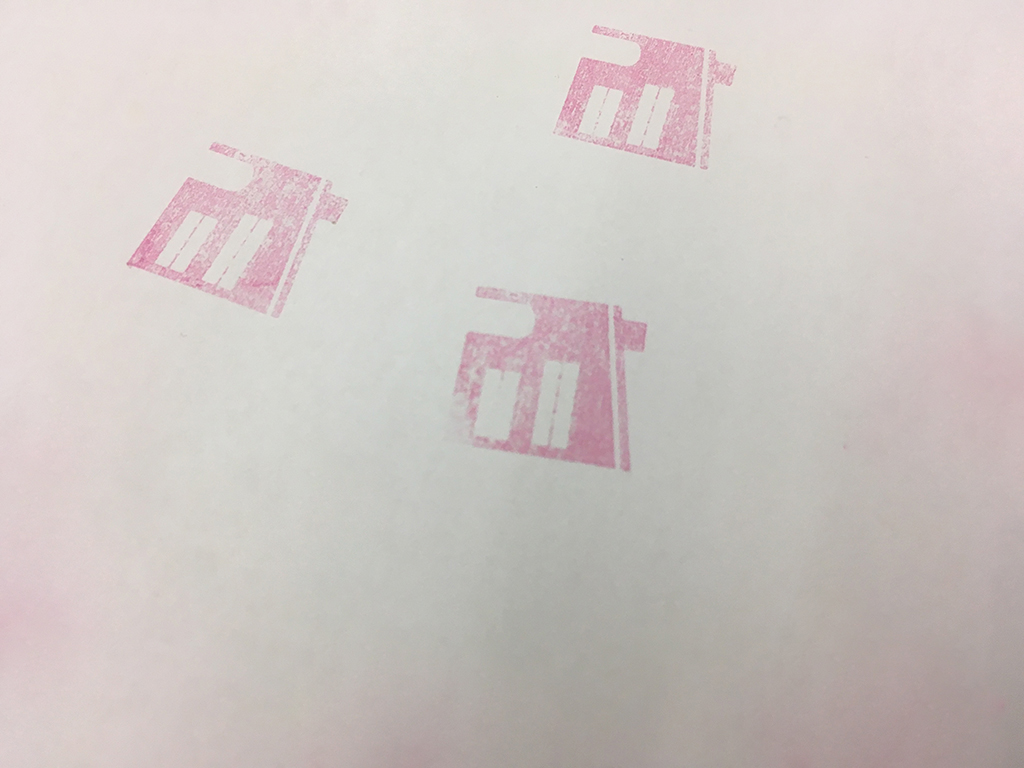house: (430, 270, 669, 502), (113, 113, 356, 333), (540, 1, 746, 188)
